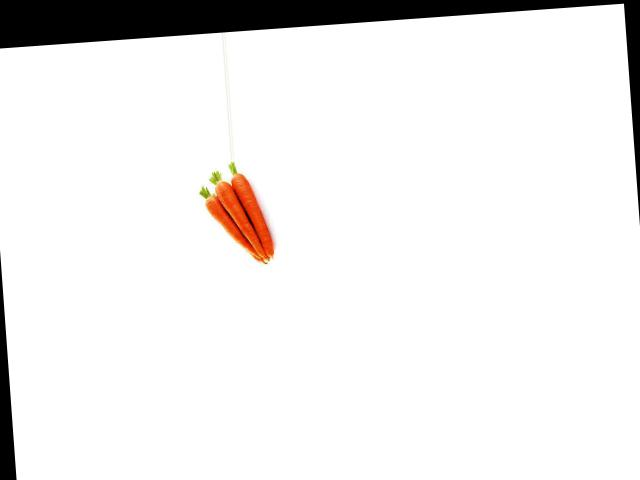carrot: (228, 174, 273, 258)
